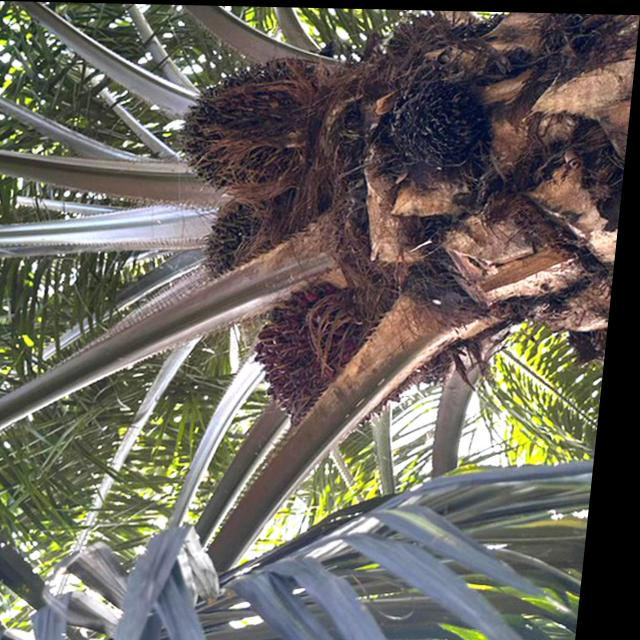ripe: (170, 49, 320, 204), (246, 276, 360, 421), (194, 196, 285, 282)
